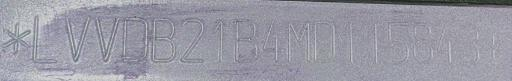letter: (230, 16, 260, 67), (92, 12, 120, 63), (63, 13, 91, 64), (179, 17, 207, 68), (122, 15, 150, 64), (30, 12, 56, 63), (150, 15, 176, 66), (311, 19, 339, 66), (385, 19, 413, 64), (260, 17, 284, 66), (286, 19, 310, 68), (411, 20, 435, 65), (459, 20, 481, 67), (338, 20, 358, 67), (436, 16, 454, 65), (366, 20, 382, 65), (211, 18, 225, 63)
